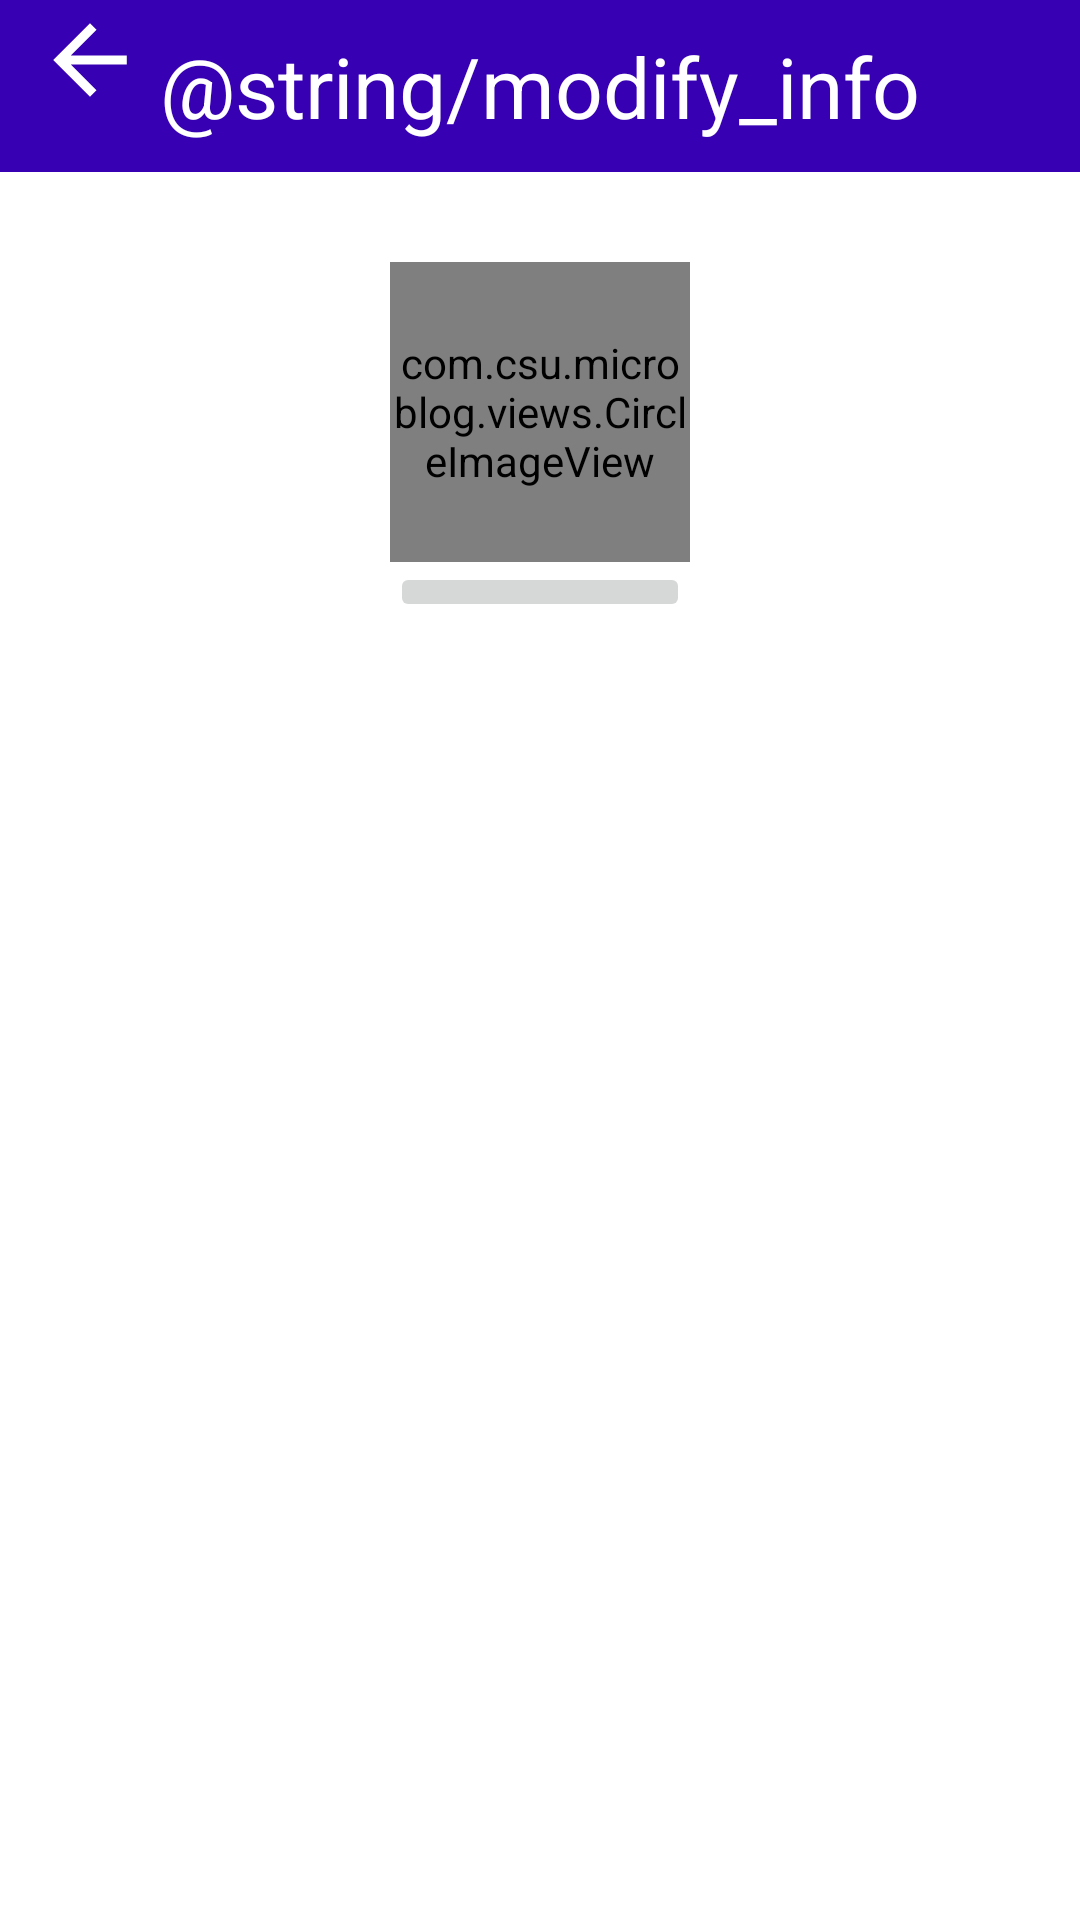

Screen size 1080w x 1920h. Icon name, then its center in pixels as [x,y]:
return: [90,60]
